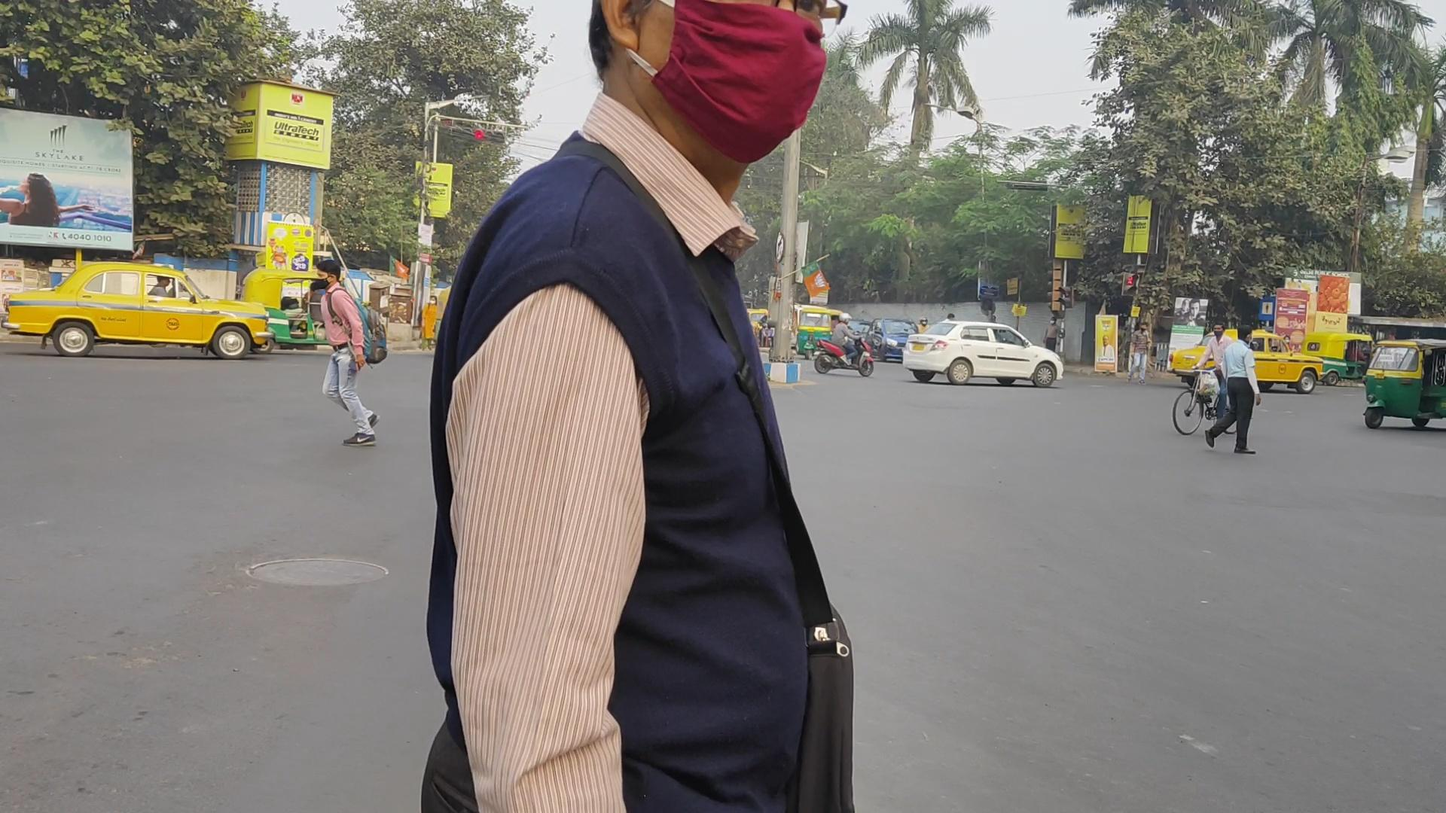Auto: (239, 267, 368, 355), (1363, 338, 1446, 430), (1301, 330, 1380, 388), (795, 307, 845, 360)
bike: (1172, 322, 1257, 437), (813, 312, 874, 377)
car: (2, 262, 275, 361), (902, 320, 1063, 388), (1169, 329, 1324, 394), (863, 318, 923, 364)
